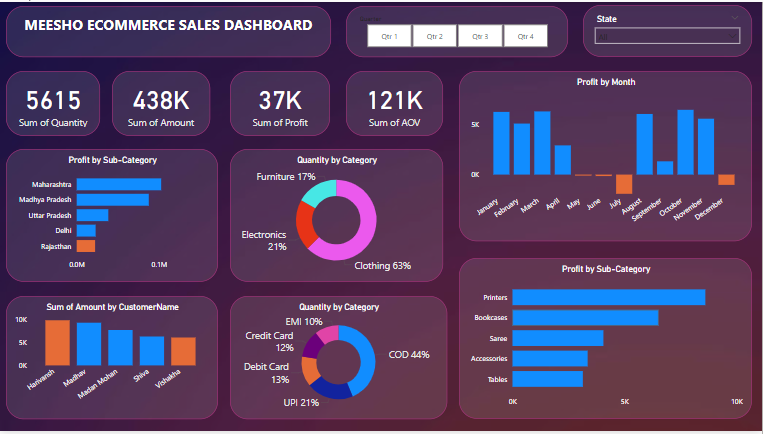

This screenshot's page, from the dashboard's own definition file:
{"tool":"powerbi","page":{"name":"Page 1","canvas":[1280,720],"ordinal":0},"visuals":[{"type":"textbox","box":[10.1,6.7,545.9,85.7],"z":0},{"type":"columnChart","title":"Profit by Month","fields":{"Category":["Orders (1).Order Date.Variation.Date Hierarchy.Month"],"Y":["Details (1).Profit"]},"box":[771,115.9,492.2,285.6],"z":1000},{"type":"barChart","title":"Profit by Sub-Category","fields":{"Category":["Details (1).Sub-Category"],"Y":["Details (1).Profit"]},"box":[771,430,492.2,270.4],"z":2000},{"type":"donutChart","title":"Quantity by Category","fields":{"Category":["Details (1).Category"],"Y":["Details (1).Quantity"]},"box":[386.4,246.9,357.8,223.4],"z":3000},{"type":"donutChart","title":"Quantity by Category","fields":{"Y":["Details (1).Quantity"],"Category":["Details (1).PaymentMode"]},"box":[386.4,493.9,364.5,206.6],"z":4000},{"type":"card","fields":{"Values":["Details (1).Amount"]},"box":[188.1,115.9,164.6,109.2],"z":5000},{"type":"card","fields":{"Values":["Details (1).Quantity"]},"box":[10.1,115.9,157.9,109.2],"z":6000},{"type":"card","fields":{"Values":["Details (1).Profit"]},"box":[386.4,115.9,168,109.2],"z":7000},{"type":"card","fields":{"Values":["Details (1).AOV"]},"box":[581.2,115.9,162.9,109.2],"z":8000},{"type":"barChart","title":"Profit by Sub-Category","fields":{"Category":["Orders (1).State"],"Y":["Details (1).Amount"]},"box":[10.1,246.9,356.1,223.4],"z":9000},{"type":"columnChart","fields":{"Category":["Orders (1).CustomerName"],"Y":["Details (1).Amount"]},"box":[10.1,493.9,356.1,206.6],"z":10000},{"type":"slicer","fields":{"Values":["Orders (1).Order Date.Variation.Date Hierarchy.Quarter"]},"box":[581.2,6.7,372.9,85.7],"z":11000},{"type":"slicer","fields":{"Values":["Orders (1).State"]},"box":[979.3,5,283.9,87.3],"z":12000}]}

Visuals, with their boxes in screenshot pixels (x1, y1, x2, y2), scaled from the page's 1280x720 canvas onto the 763x434 screenshot:
textbox: bbox(6, 4, 331, 56)
"Profit by Month" columnChart: bbox(460, 70, 753, 242)
"Profit by Sub-Category" barChart: bbox(460, 259, 753, 422)
"Quantity by Category" donutChart: bbox(230, 149, 444, 283)
"Quantity by Category" donutChart: bbox(230, 298, 448, 422)
card - Details (1).Amount: bbox(112, 70, 210, 136)
card - Details (1).Quantity: bbox(6, 70, 100, 136)
card - Details (1).Profit: bbox(230, 70, 330, 136)
card - Details (1).AOV: bbox(346, 70, 444, 136)
"Profit by Sub-Category" barChart: bbox(6, 149, 218, 283)
columnChart - Orders (1).CustomerName x Details (1).Amount: bbox(6, 298, 218, 422)
slicer - Orders (1).Order Date.Variation.Date Hierarchy.Quarter: bbox(346, 4, 569, 56)
slicer - Orders (1).State: bbox(584, 3, 753, 56)
